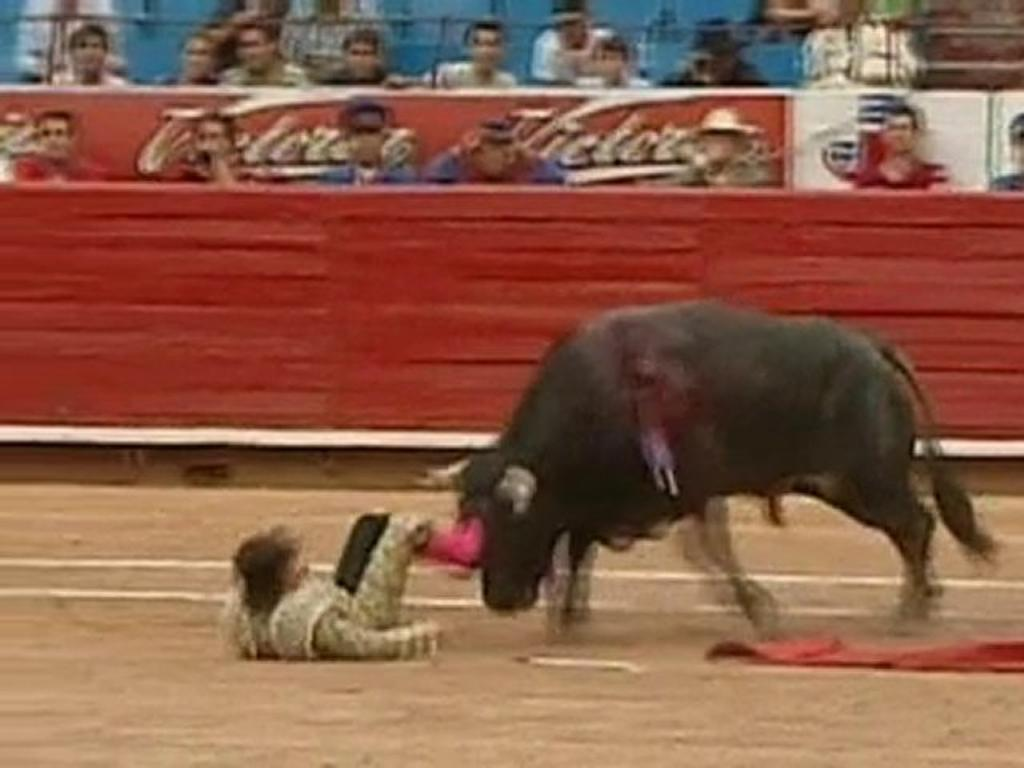face: (350, 114, 380, 162), (692, 43, 724, 82), (237, 30, 267, 71), (75, 35, 104, 73), (472, 139, 499, 177), (473, 30, 498, 71), (183, 39, 209, 78), (286, 555, 312, 594), (198, 121, 224, 159), (347, 41, 374, 77), (886, 116, 912, 153), (39, 121, 67, 154), (704, 129, 732, 159), (556, 18, 582, 47), (596, 46, 619, 78), (1011, 126, 1024, 169)
